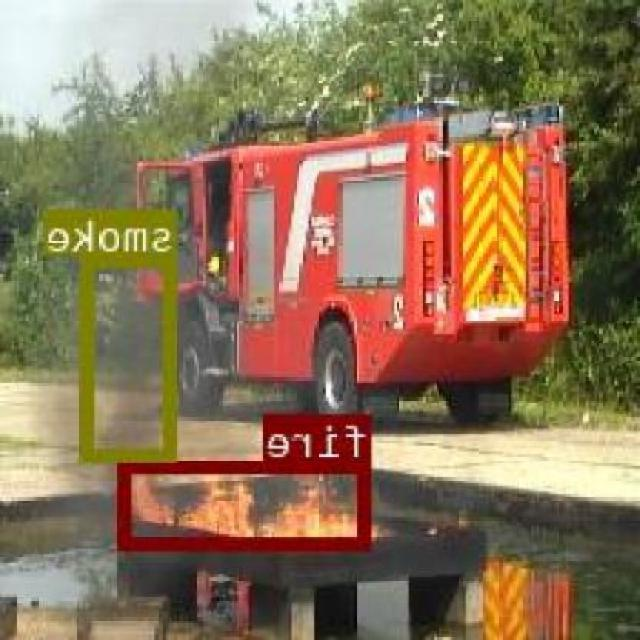Fire: (120, 459, 374, 547)
Smoke: (83, 252, 179, 458)
